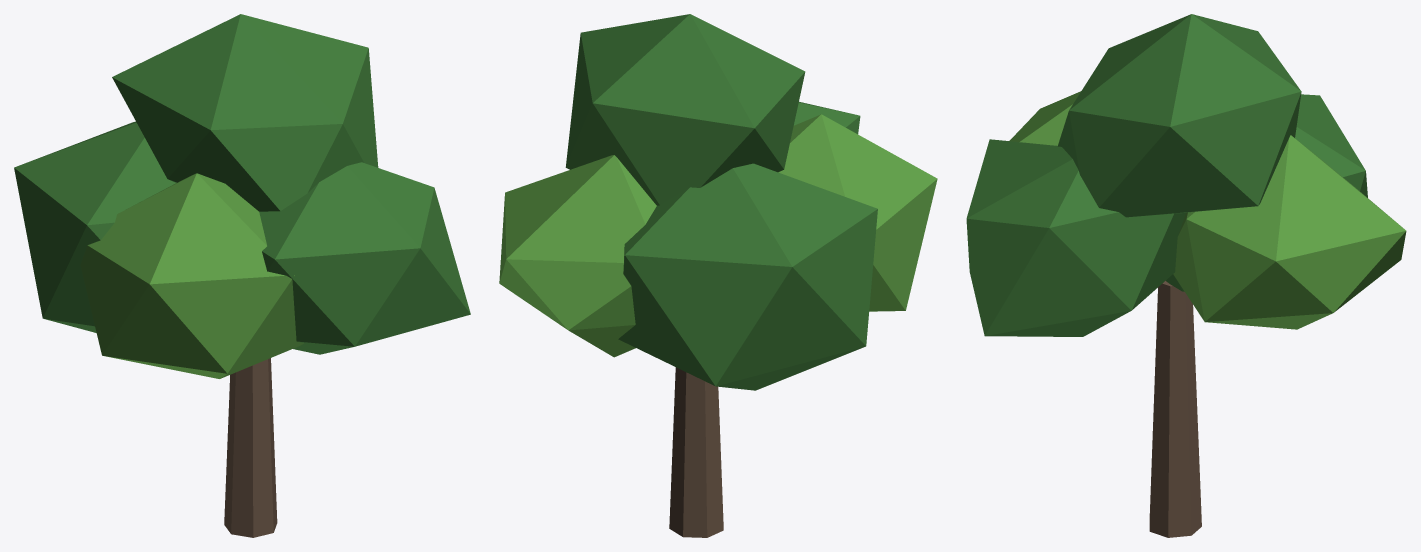
The model's file is ENV_Tree.fbx.
3 views of the same model, side by side, from view 1: azimuth 30°, elevation 25°; view 2: azimuth 150°, elevation 25°; view 3: azimuth 270°, elevation 25° (orthographic). The views are drawn at different scales.
Visible parts, largest first — view 1: ENV_Tree; view 2: ENV_Tree; view 3: ENV_Tree.
Part boxes in pixels (bbox=[...]): ENV_Tree: bbox=[14, 14, 470, 537]; ENV_Tree: bbox=[499, 14, 937, 537]; ENV_Tree: bbox=[966, 14, 1406, 537].
Size of the model in its own units: 3.42 by 5.11 by 3.99.
